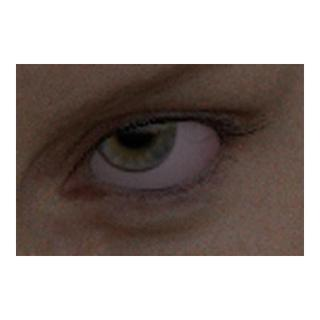pupil: (115, 110, 154, 148)
